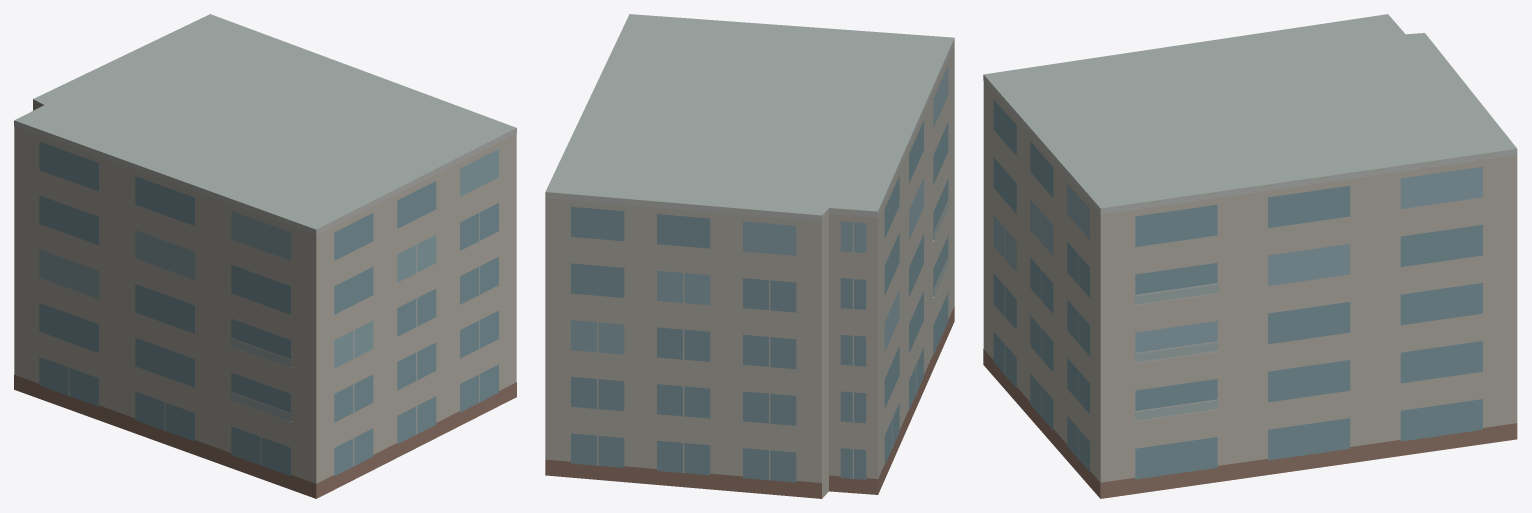
Rendered from survey-upis-32945526.glb.
The picture shows the model from 3 angles, left to right: view 1: azimuth 30°, elevation 25°; view 2: azimuth 150°, elevation 25°; view 3: azimuth 270°, elevation 25°; orthographic projection. The views are drawn at different scales.
Visible parts, largest first — view 1: survey-upis-32945526.tmp; view 2: survey-upis-32945526.tmp; view 3: survey-upis-32945526.tmp.
Part boxes in pixels (x1,y1,x2,y2): survey-upis-32945526.tmp: (14, 14, 516, 498); survey-upis-32945526.tmp: (545, 14, 954, 498); survey-upis-32945526.tmp: (983, 14, 1517, 498).
Bounding box in the file's own units: 16.38 × 11.4 × 19.
